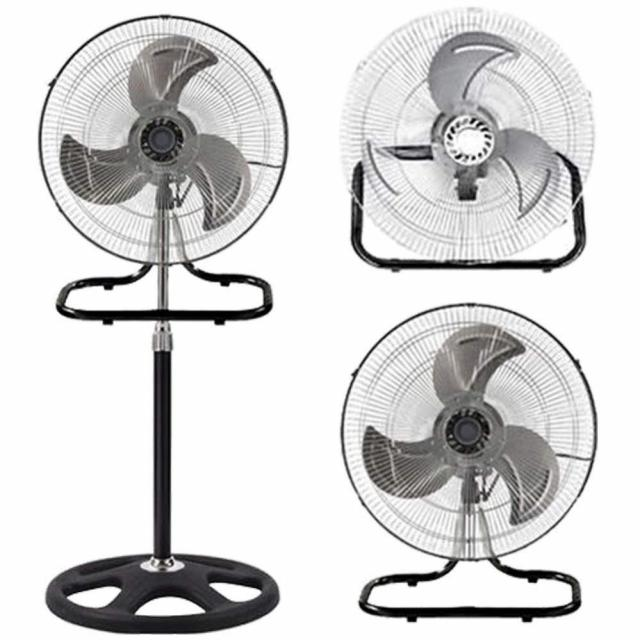fan: (39, 1, 608, 634)
